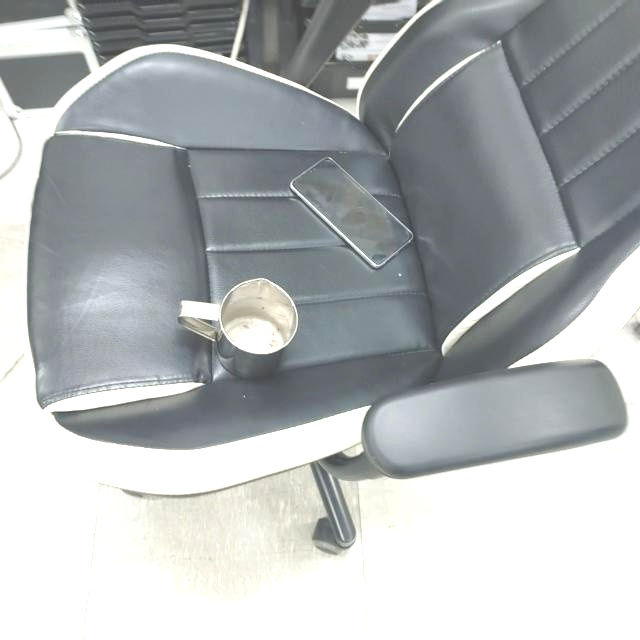cup: (175, 275, 300, 380)
phone: (289, 154, 415, 271)
